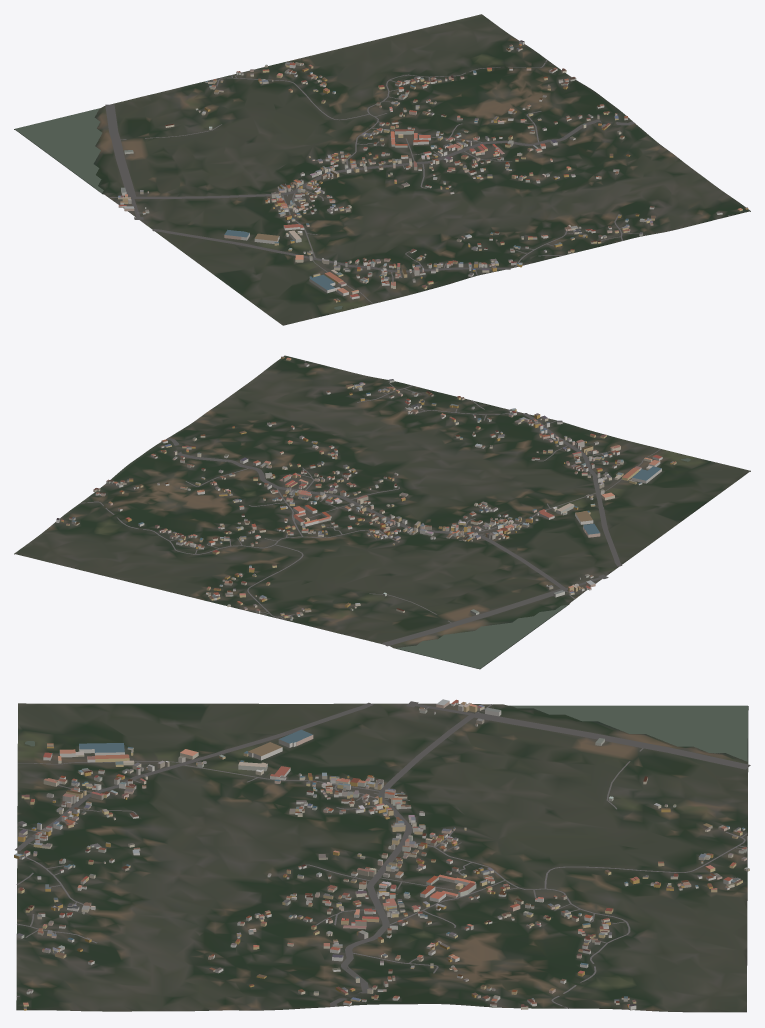
The picture shows the model from 3 angles, top to bottom: view 1: azimuth 30°, elevation 25°; view 2: azimuth 150°, elevation 25°; view 3: azimuth 270°, elevation 25°; orthographic projection. The views are drawn at different scales.
Parts seen in each view (by area): view 1: ground, buildings, roads, water; view 2: ground, buildings, roads, water; view 3: ground, buildings, roads, water.
Boxes of the visible parts, x1=… form: ground: x1=14, y1=14, x2=750, y2=325; buildings: x1=118, y1=40, x2=748, y2=302; roads: x1=105, y1=60, x2=729, y2=303; water: x1=15, y1=108, x2=342, y2=309; ground: x1=14, y1=355, x2=750, y2=669; buildings: x1=56, y1=356, x2=676, y2=620; roads: x1=80, y1=360, x2=660, y2=646; water: x1=396, y1=458, x2=690, y2=668; ground: x1=16, y1=703, x2=748, y2=1012; buildings: x1=14, y1=699, x2=749, y2=1010; roads: x1=15, y1=701, x2=750, y2=1008; water: x1=25, y1=705, x2=747, y2=761.
Bounding box in the file's own units: 1416 × 25.33 × 1414.
